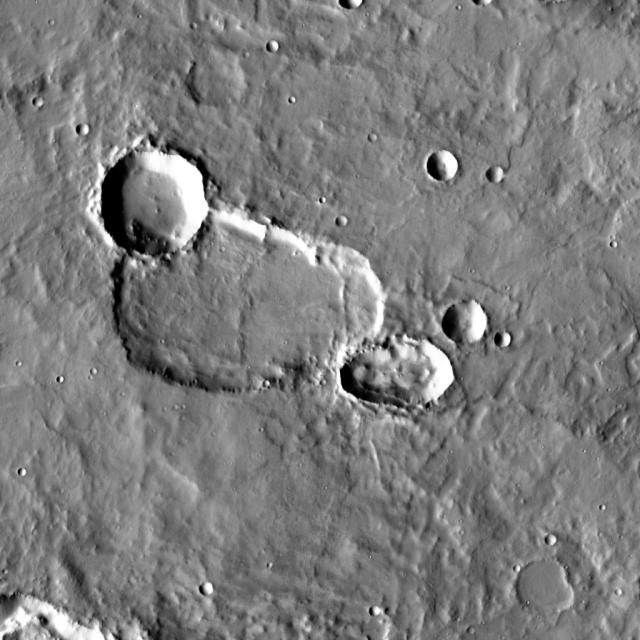crater: (121, 209, 309, 397), (238, 238, 390, 388), (107, 151, 214, 258), (567, 92, 640, 206), (361, 331, 450, 420), (195, 55, 252, 112), (524, 562, 578, 616), (450, 302, 494, 346), (435, 152, 465, 182), (501, 332, 518, 349), (494, 168, 511, 184), (206, 584, 220, 598), (84, 124, 98, 138), (273, 42, 286, 55), (319, 120, 330, 131), (344, 220, 355, 230), (40, 99, 50, 109), (553, 538, 563, 548), (377, 608, 387, 618), (553, 252, 563, 262), (376, 138, 386, 146), (24, 468, 34, 476), (610, 236, 618, 244), (64, 376, 72, 384), (190, 18, 198, 25), (475, 629, 482, 637), (289, 91, 296, 98), (514, 560, 520, 568), (91, 364, 98, 370), (16, 355, 22, 361), (601, 500, 607, 506), (321, 192, 326, 198)
